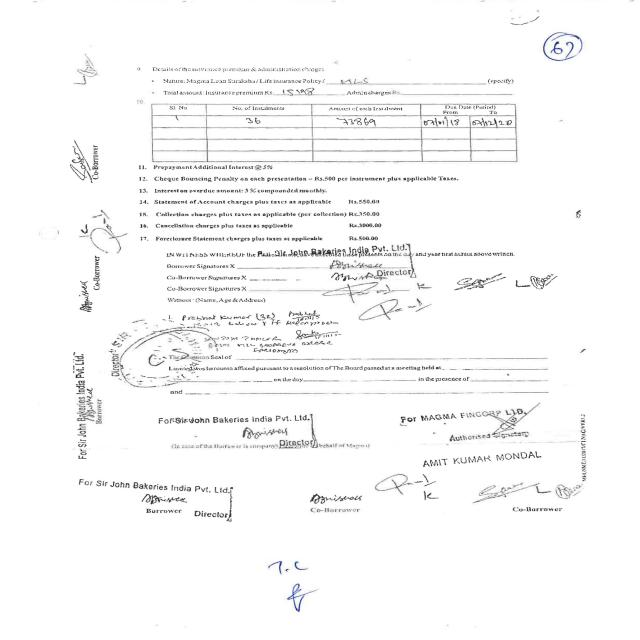page-number: (435, 0, 638, 75)
